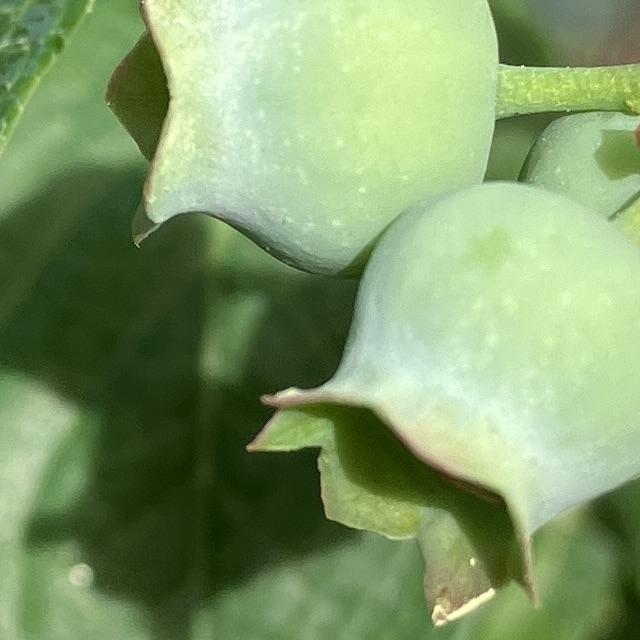Blueberries: (250, 176, 640, 631), (95, 0, 501, 277)
